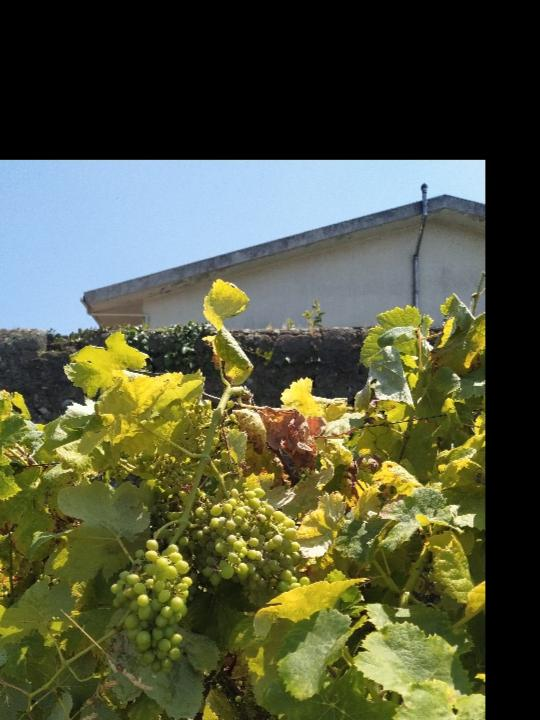grape: (188, 484, 313, 598), (108, 538, 194, 677)
